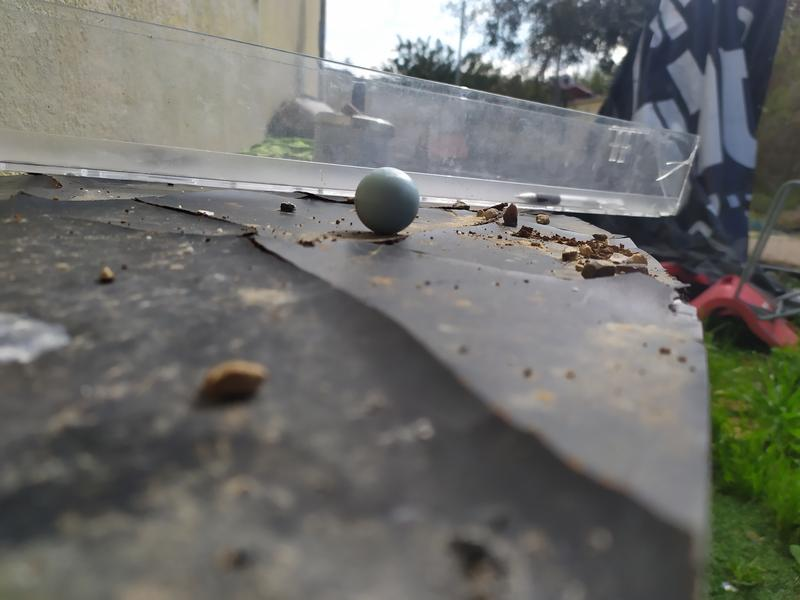Warning: (352, 165, 423, 238)
